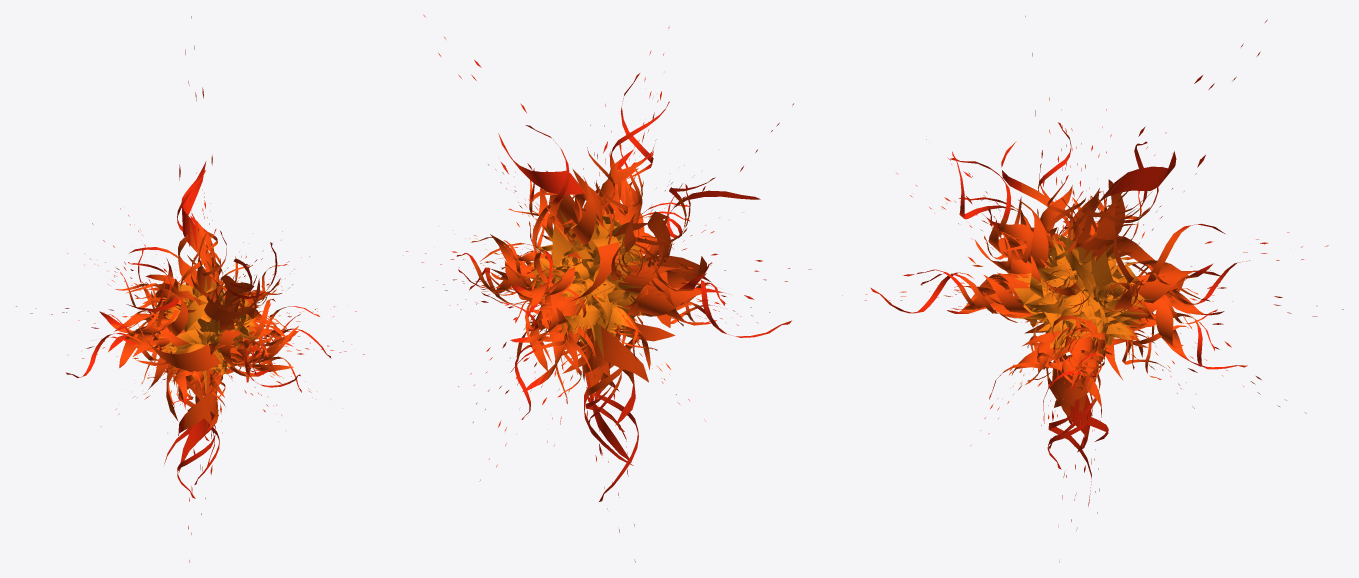
Rendered from fireball_02.obj.
3 views of the same model, side by side, from view 1: azimuth 30°, elevation 25°; view 2: azimuth 150°, elevation 25°; view 3: azimuth 270°, elevation 25° (orthographic). The views are drawn at different scales.
Parts seen in each view (by area): view 1: Fireball; view 2: Fireball; view 3: Fireball.
Part boxes in pixels (x1=…): Fireball: x1=16, y1=16, x2=364, y2=562; Fireball: x1=406, y1=14, x2=811, y2=562; Fireball: x1=842, y1=16, x2=1343, y2=562.
Size of the model in its own units: 1.71 by 2.29 by 1.76.
